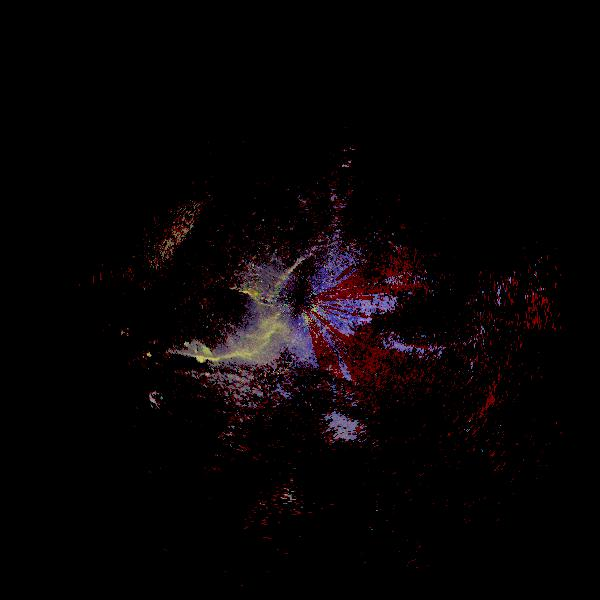roost: (140, 323, 218, 401)
